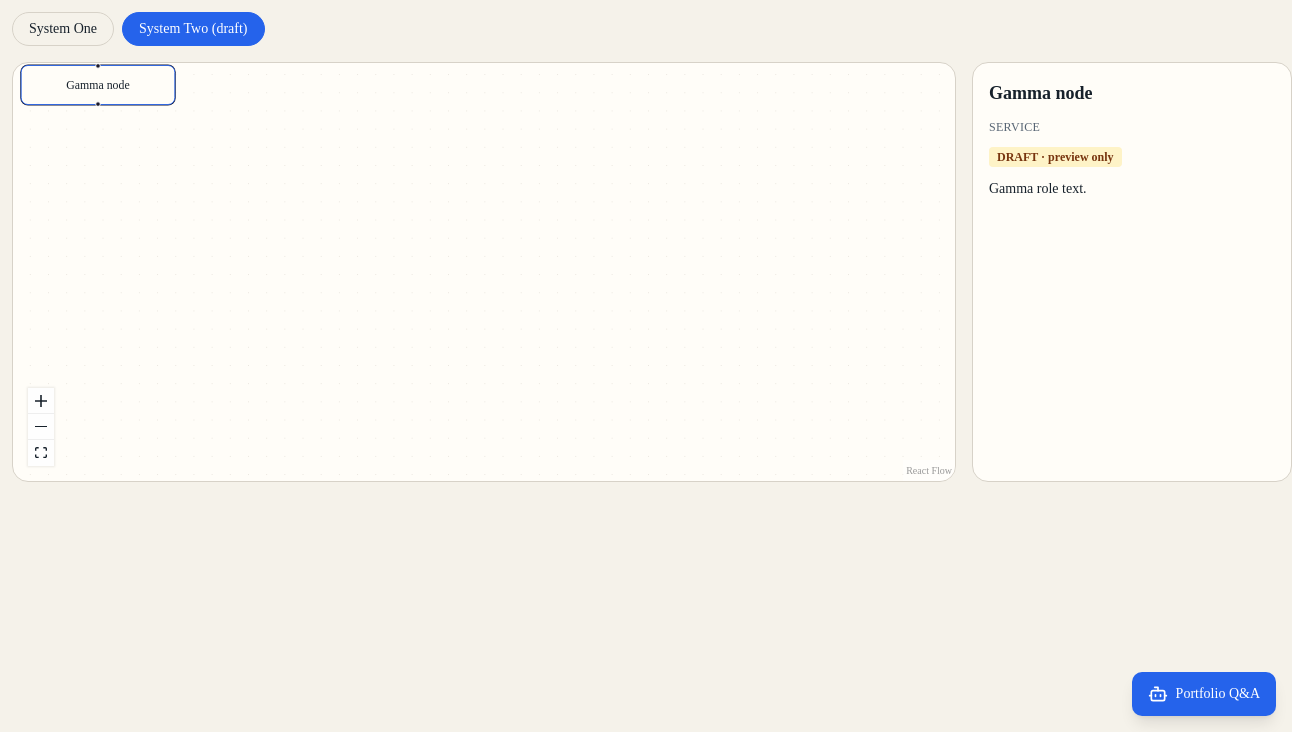
Test: Explorer › deep-links into the second system and switches tabs
This screenshot has width=1292, height=732.
Check: the heading "Gamma node" is shown, box 989,79 -> 1092,107
Click the tab "System One": (63, 29) 12,12 -> 114,46
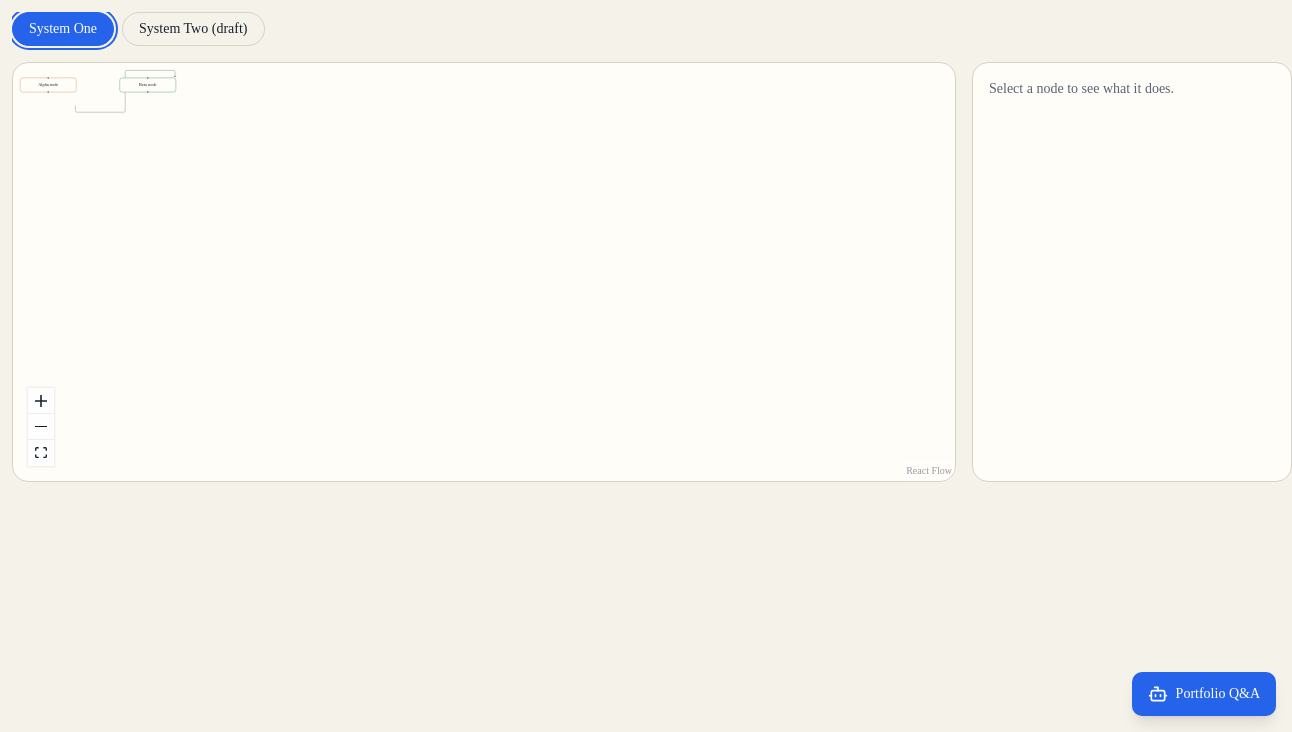
Check: the text "Alpha node" is shown, box 20,78 -> 76,92
Check: the text "Select a node to see what it does." is shown, box 989,81 -> 1174,96
